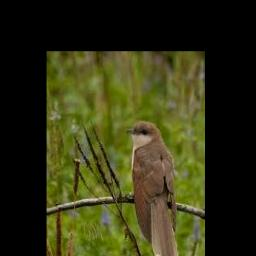Cuckoo: (125, 120, 179, 256)
